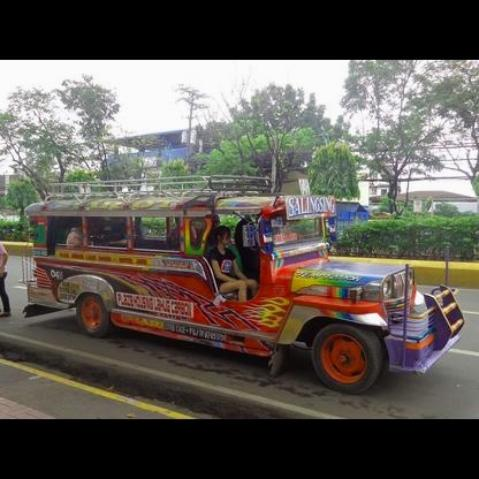jeepney: (20, 151, 474, 395)
